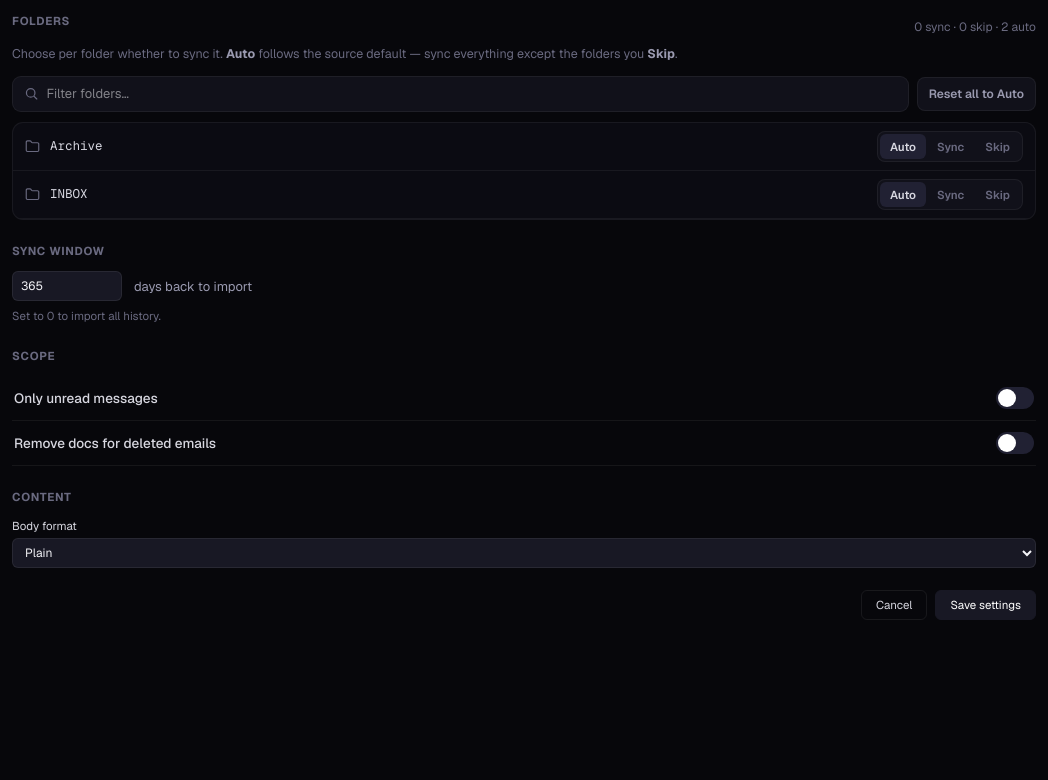
Scenario: SyncSettingsForm (tri-state) › warns that Sync activates an exclusive whitelist (no note until a Sync exists)
Click the radio button with test id "connector-imap-settings-folder-inbox-sync": (951, 194) [927,182,974,207]
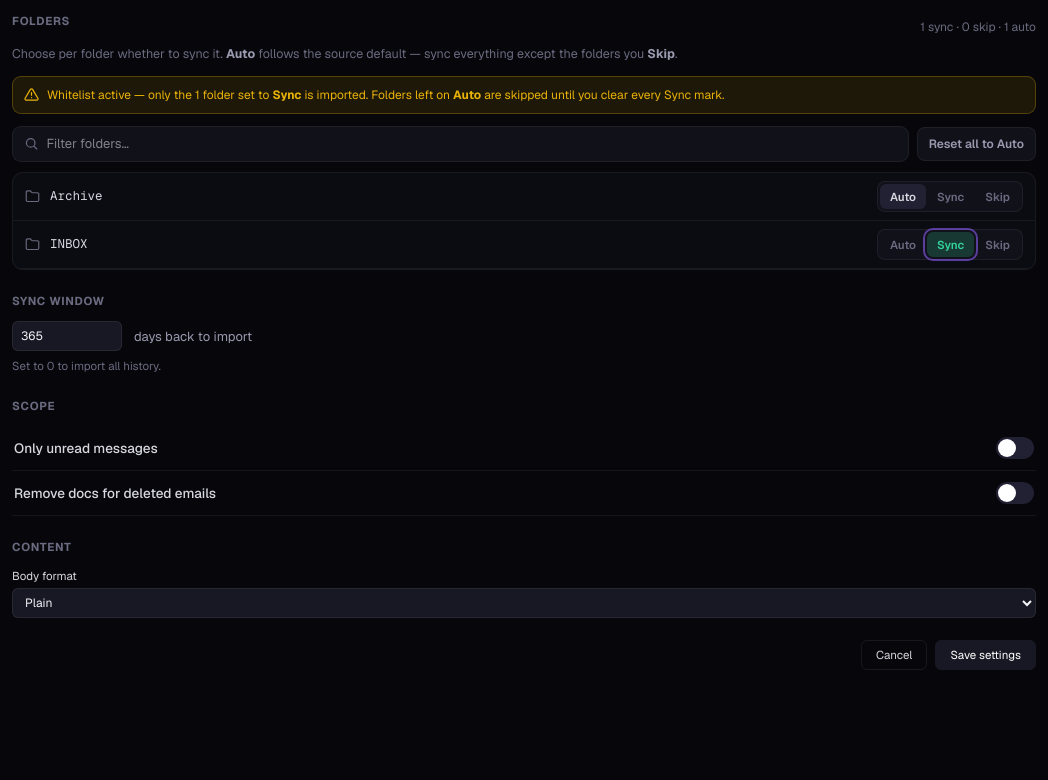
Now the message with test id "connector-imap-settings-folder-whitelist-note" is shown, box [12,76,1036,114]
Now the message with test id "connector-imap-settings-folder-whitelist-note" shows "Whitelist active", box [47,87,195,103]
# Clearing the last Sync mark removes the warning.
Click the radio button with test id "connector-imap-settings-folder-inbox-auto": (903, 244) [880,232,926,257]
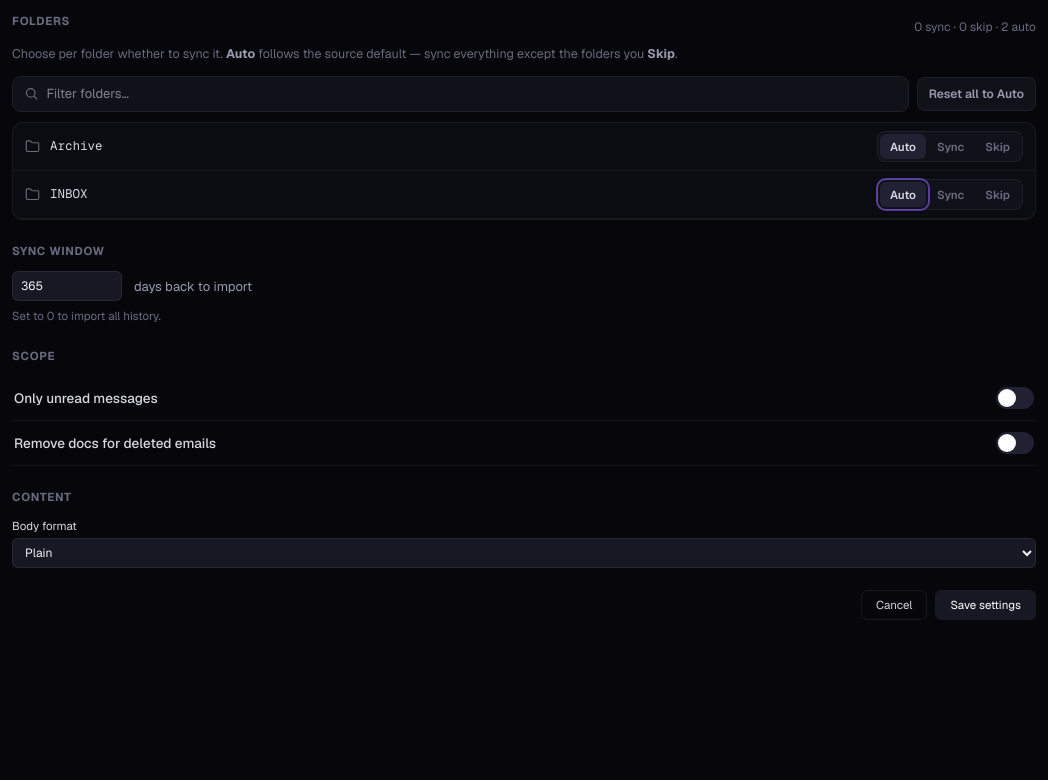
Now the message with test id "connector-imap-settings-folder-whitelist-note" is gone
